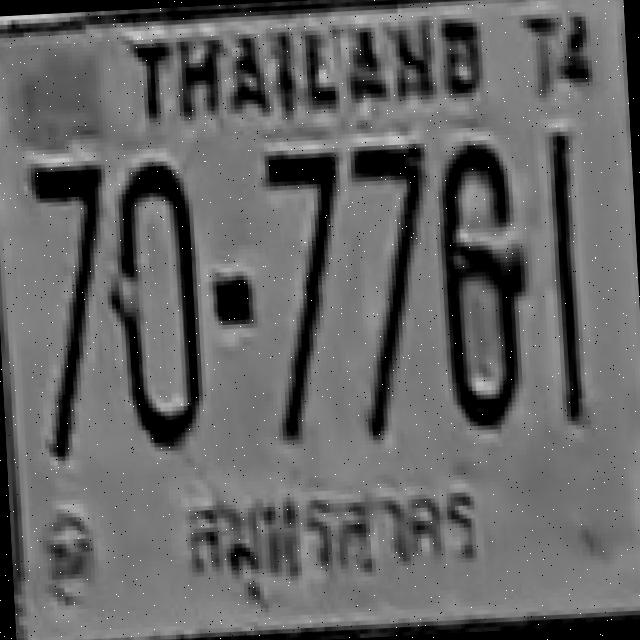0: (104, 158, 206, 446)
7: (262, 148, 346, 326), (28, 160, 108, 334), (350, 139, 432, 305), (350, 139, 431, 287)
SamutSakhon: (166, 476, 488, 602)
